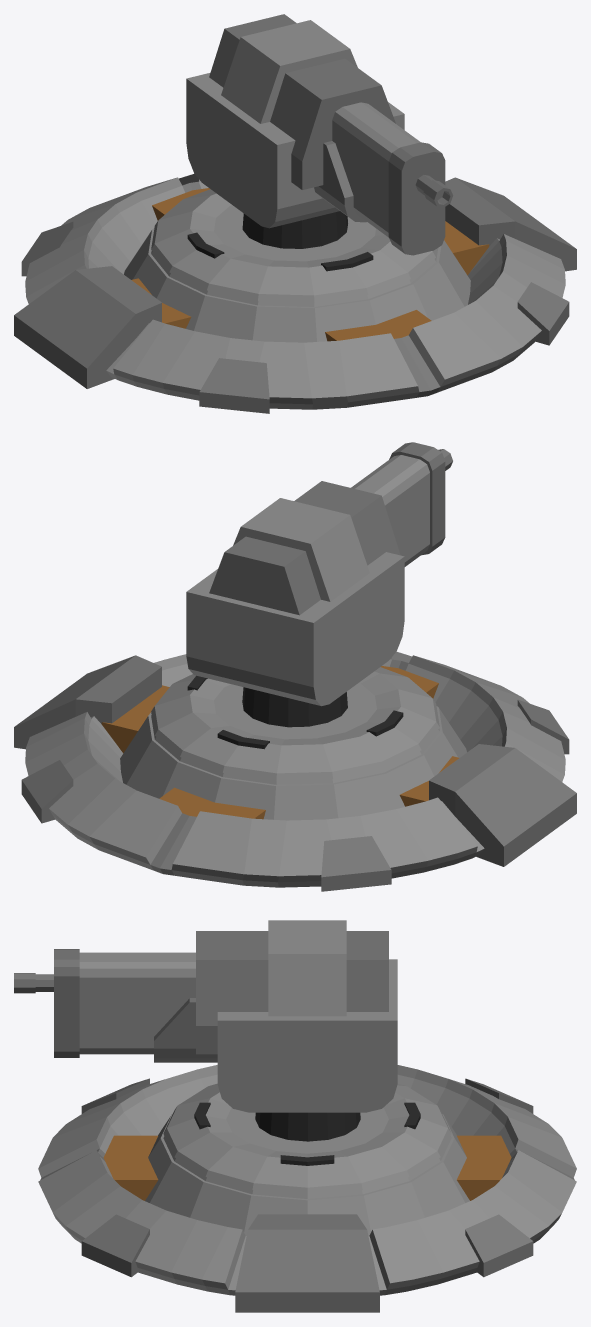
The model's file is Turret Gun.glb.
3 views of the same model, one above another, from view 1: azimuth 30°, elevation 25°; view 2: azimuth 150°, elevation 25°; view 3: azimuth 270°, elevation 25° (orthographic).
Parts seen in each view (by area): view 1: Turret Gun; view 2: Turret Gun; view 3: Turret Gun.
Boxes of the visible parts, bbox=[...] form: Turret Gun: bbox=[14, 14, 576, 413]; Turret Gun: bbox=[14, 442, 576, 891]; Turret Gun: bbox=[14, 920, 576, 1312].
Bounding box in the file's own units: 0.8108 × 0.4109 × 0.8151.
